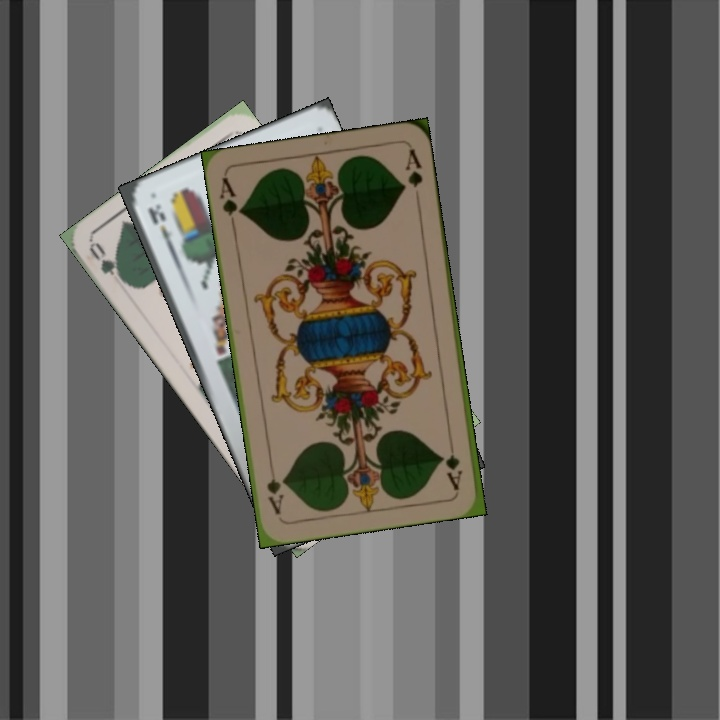EK: (143, 200, 178, 256)
GA: (216, 173, 245, 232), (442, 433, 465, 492)
GO: (85, 238, 132, 288)
